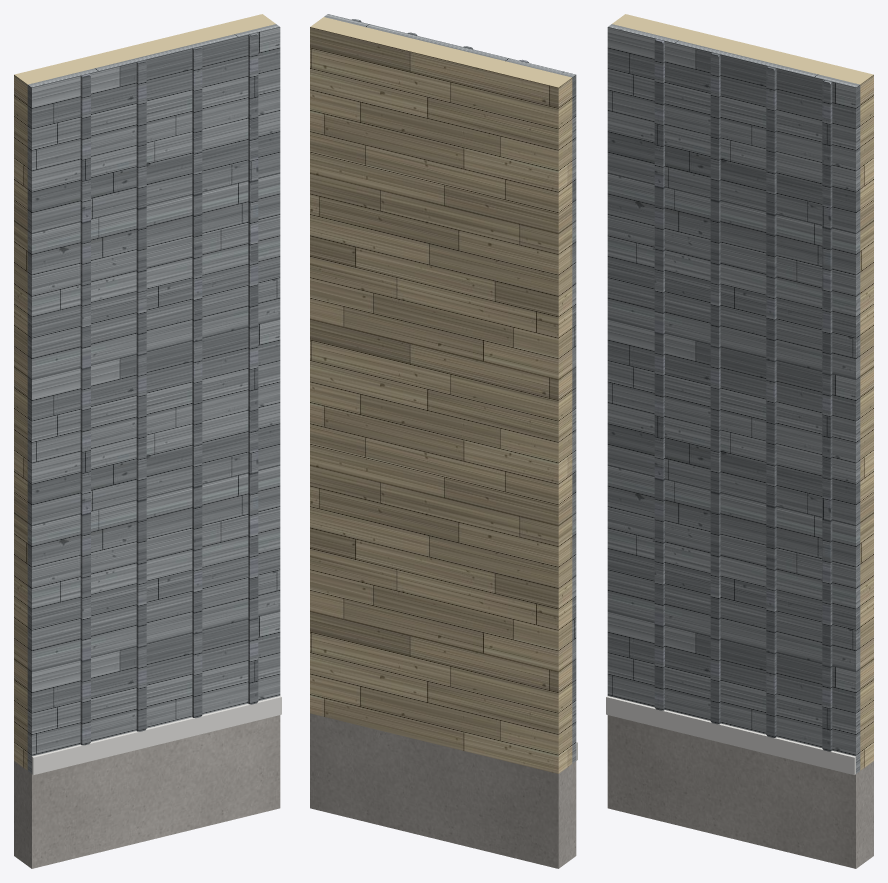
The model's file is m_plain_l.glb.
The picture shows the model from 3 angles, left to right: view 1: azimuth 30°, elevation 25°; view 2: azimuth 150°, elevation 25°; view 3: azimuth 330°, elevation 25°; orthographic projection.
Visible parts, largest first — view 1: m_plain_l_siding, m_plain_l_batten, m_plain_l_concrete, m_plain_l_plaster, m_plain_l_trim; view 2: m_plain_l_plaster, m_plain_l_concrete, m_plain_l_siding; view 3: m_plain_l_siding, m_plain_l_batten, m_plain_l_concrete, m_plain_l_plaster, m_plain_l_trim.
Part boxes in pixels (x1,y1,x2,y2): m_plain_l_siding: (27, 24, 280, 773); m_plain_l_batten: (80, 33, 258, 745); m_plain_l_concrete: (14, 715, 280, 868); m_plain_l_plaster: (14, 14, 275, 770); m_plain_l_trim: (32, 696, 281, 774); m_plain_l_plaster: (310, 17, 572, 773); m_plain_l_concrete: (310, 713, 576, 868); m_plain_l_siding: (324, 14, 576, 763); m_plain_l_siding: (607, 24, 860, 773); m_plain_l_batten: (654, 39, 832, 751); m_plain_l_concrete: (607, 715, 873, 868); m_plain_l_plaster: (612, 14, 873, 770); m_plain_l_trim: (606, 696, 855, 774).
Bounding box in the file's own units: 1.78 × 5.35 × 0.242.
5 materials, 4 textured.
